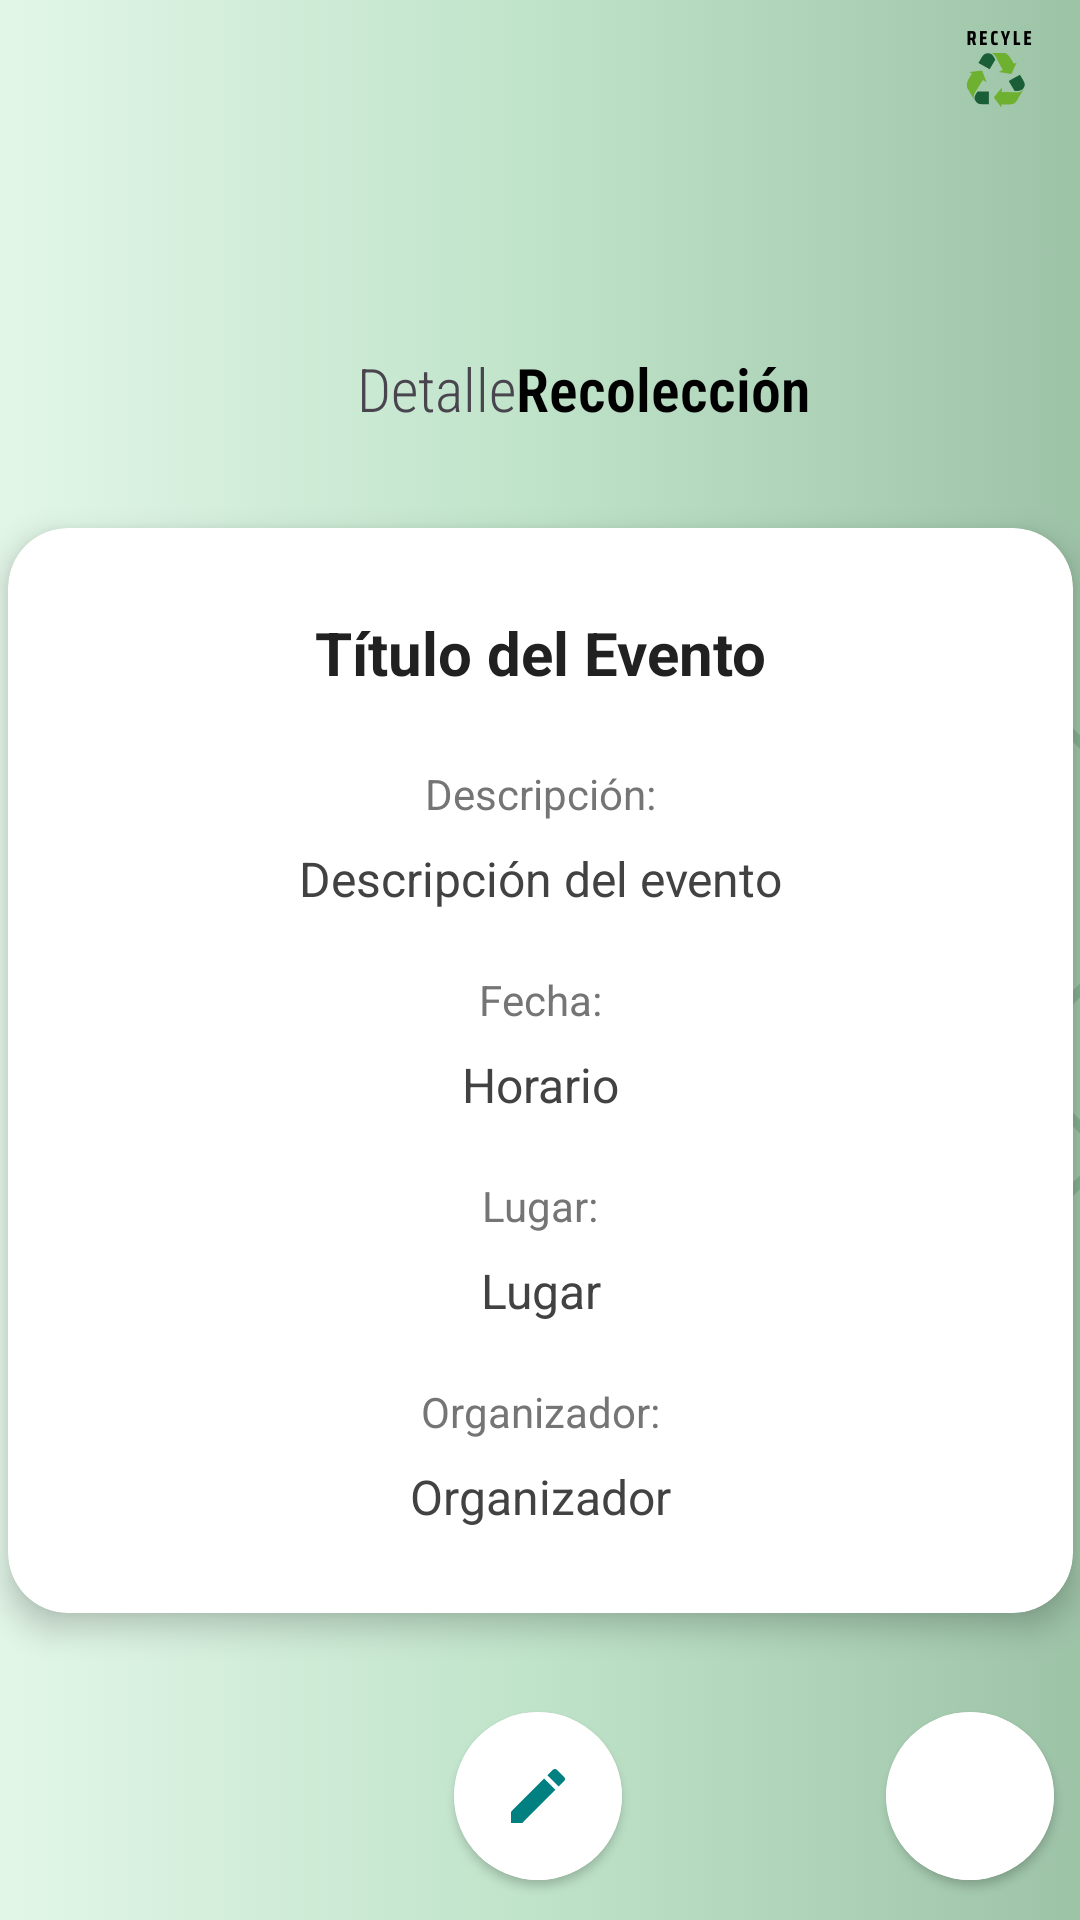

Locate icon controls on the screen. Image size 1080w x 1920h, boxes as (x1, y1, x2, y2).
edit: (454, 1712, 622, 1880)
